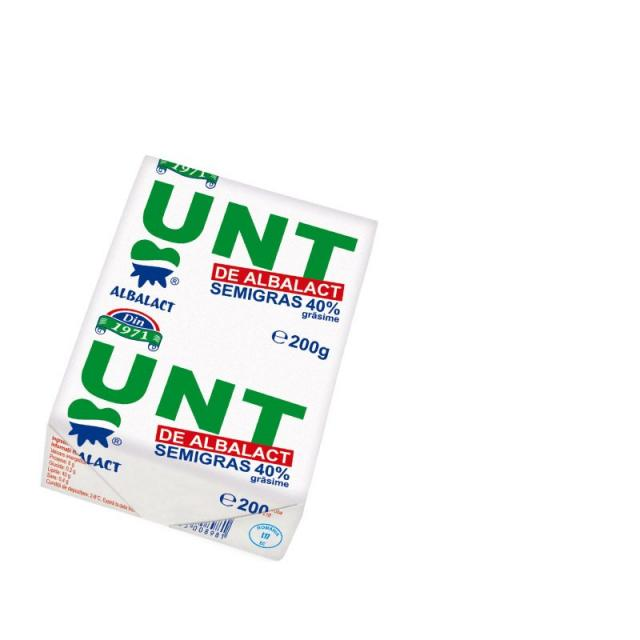butter: (42, 150, 378, 566)
